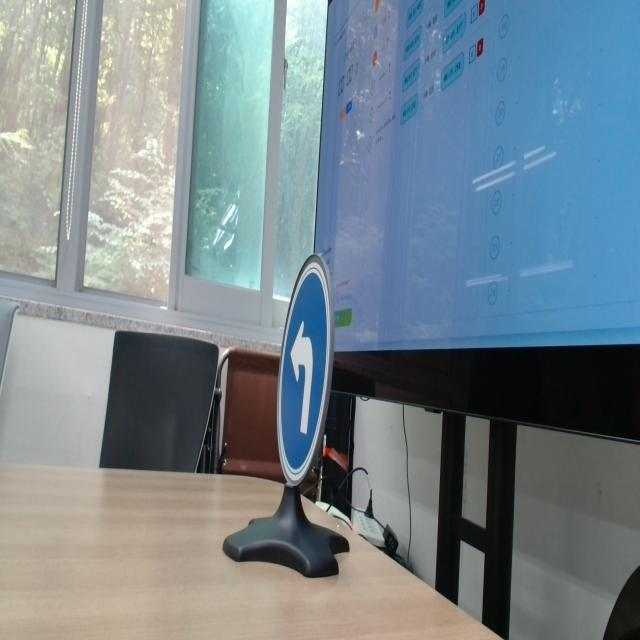left_direction: (246, 240, 355, 499)
